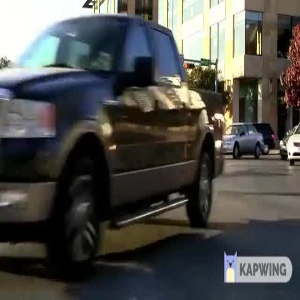truck: (1, 15, 226, 248)
